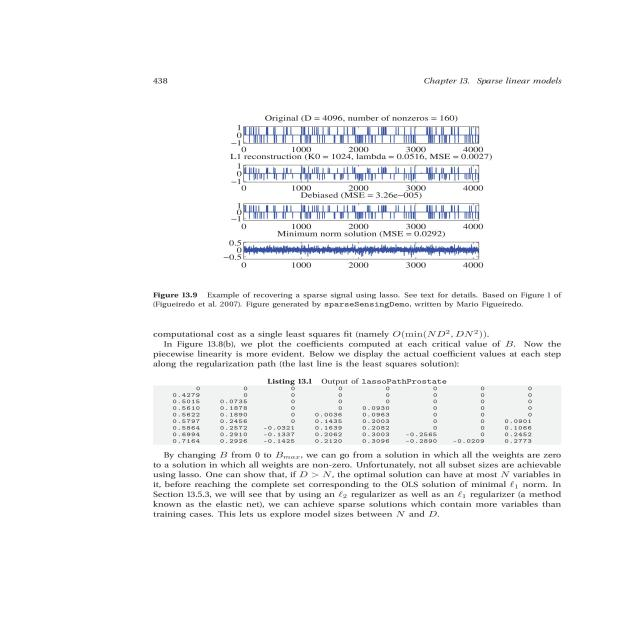diagram: (78, 83, 635, 324)
